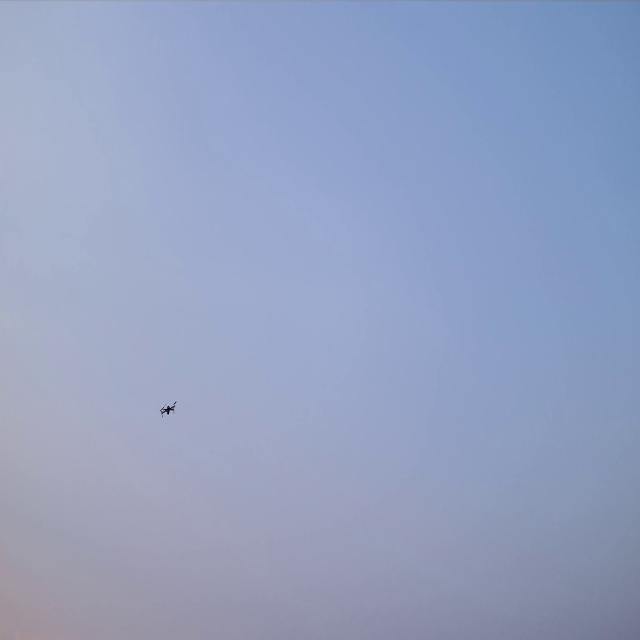UAV: (159, 400, 177, 418)
